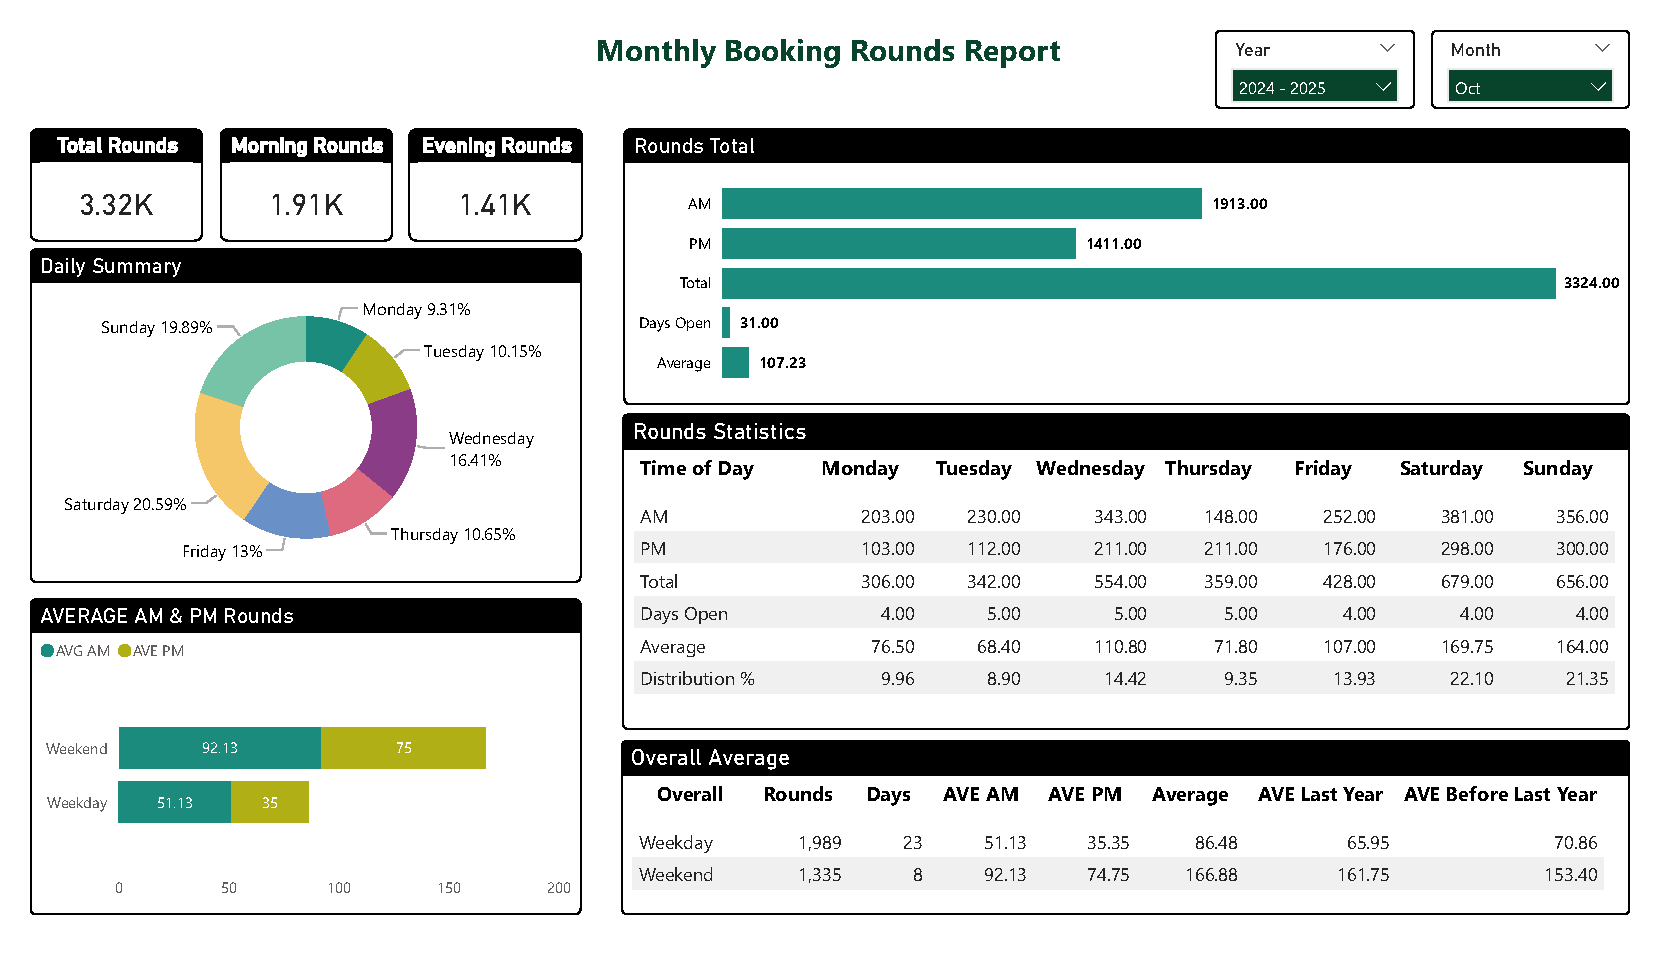

The dashboard page shown, as its layout file describes it:
{"tool":"powerbi","page":{"name":"BRRM","canvas":[1280,720],"ordinal":0},"visuals":[{"type":"textbox","box":[448,0,496,48],"z":0},{"type":"tableEx","title":"Rounds Statistics","fields":{"Values":["Time of Day.Time of Day","Sum(BRRM Time of Day.Monday)","Sum(BRRM Time of Day.Tuesday)","Sum(BRRM Time of Day.Wednesday)","Sum(BRRM Time of Day.Thursday)","Sum(BRRM Time of Day.Friday)","Sum(BRRM Time of Day.Saturday)","Sum(BRRM Time of Day.Sunday)"]},"box":[474,306.8,806,252.7],"z":1000},{"type":"tableEx","title":"Overall Average","fields":{"Values":["BRRM2 Time of Day.Booking Rounds Report","Sum(BRRM2 Time of Day.Rounds)","Sum(BRRM2 Time of Day.Days)","Sum(BRRM2 Time of Day.AVE AM)","Sum(BRRM2 Time of Day.AVE PM)","Sum(BRRM2 Time of Day.Ave)","BRRM2 Time of Day.AVG Last Year","BRRM2 Time of Day.AVG Before Last Year"]},"box":[473.5,568.4,806,139.2],"z":2000},{"type":"barChart","title":"AVERAGE AM & PM Rounds","fields":{"Category":["BRRM2 Time of Day.Booking Rounds Report"],"Y":["Sum(BRRM2 Time of Day.AVE AM)","Sum(BRRM2 Time of Day.AVE PM)"]},"box":[0,454.6,441.4,253],"z":3000},{"type":"cardVisual","title":"Total Rounds","fields":{"Data":["Sum(BRRM Time of Day.Total)"]},"box":[0,78.9,138.3,90.4],"z":4000},{"type":"cardVisual","title":"Morning Rounds","fields":{"Data":["Sum(BRRM Time of Day.Total)"]},"box":[151.6,78.9,138.3,90.4],"z":5000},{"type":"cardVisual","title":"Evening Rounds","fields":{"Data":["Sum(BRRM Time of Day.Total)"]},"box":[303.3,78.9,138.3,90.4],"z":6000},{"type":"donutChart","title":"Daily Summary","fields":{"Y":["Sum(BRRM Time of Day.Monday)","Sum(BRRM Time of Day.Tuesday)","Sum(BRRM Time of Day.Wednesday)","Sum(BRRM Time of Day.Thursday)","Sum(BRRM Time of Day.Friday)","Sum(BRRM Time of Day.Saturday)","Sum(BRRM Time of Day.Sunday)"]},"box":[0,175.4,441.4,267.1],"z":7000},{"type":"clusteredBarChart","title":"Rounds Total","fields":{"Category":["Time of Day.Time of Day"],"Y":["Sum(BRRM Time of Day.Total)"]},"box":[474.7,78.6,805.3,221.7],"z":8000},{"type":"slicer","title":"Month","fields":{"Values":["Date Dim2.Month Name"]},"box":[1120.8,0,159.2,63.5],"z":9000},{"type":"slicer","title":"Year","fields":{"Values":["Date Dim2.Financial Year"]},"box":[948.4,0,159.2,63.5],"z":10000},{"type":"textbox","box":[0,79.4,1279.7,629],"z":11000}]}

Visuals, with their boxes in screenshot pixels (x1, y1, x2, y2), scaled from the page's 1280x720 canvas onto the 1660x960 screenshot:
textbox: left=581, top=0, right=1224, bottom=64
"Rounds Statistics" tableEx: left=615, top=409, right=1659, bottom=746
"Overall Average" tableEx: left=614, top=758, right=1659, bottom=943
"AVERAGE AM & PM Rounds" barChart: left=0, top=606, right=572, bottom=943
"Total Rounds" cardVisual: left=0, top=105, right=179, bottom=226
"Morning Rounds" cardVisual: left=197, top=105, right=376, bottom=226
"Evening Rounds" cardVisual: left=393, top=105, right=573, bottom=226
"Daily Summary" donutChart: left=0, top=234, right=572, bottom=590
"Rounds Total" clusteredBarChart: left=616, top=105, right=1659, bottom=400
"Month" slicer: left=1454, top=0, right=1659, bottom=85
"Year" slicer: left=1230, top=0, right=1436, bottom=85
textbox: left=0, top=106, right=1659, bottom=945
